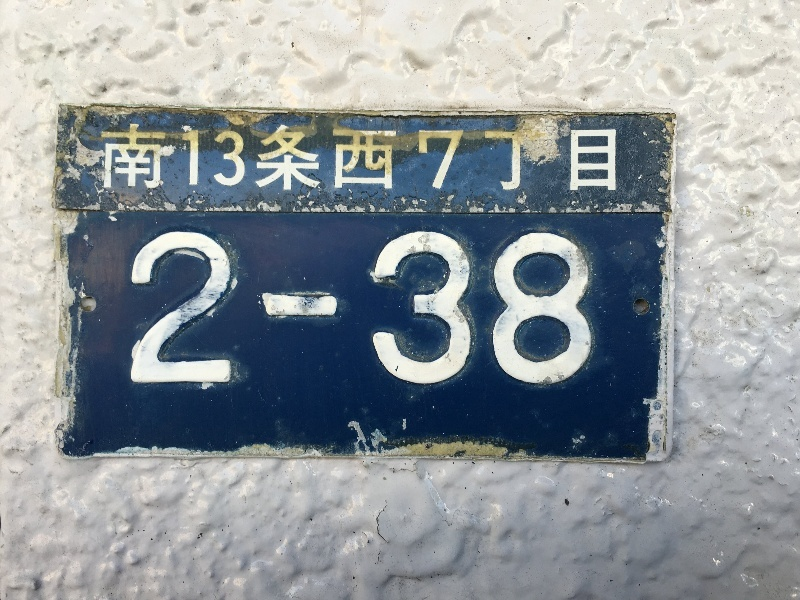text: (577, 226, 593, 386), (145, 226, 160, 386), (161, 226, 176, 386), (177, 226, 192, 386), (193, 226, 208, 386), (209, 226, 224, 386), (225, 226, 240, 386), (241, 226, 256, 386), (257, 226, 272, 386), (273, 226, 288, 386), (289, 226, 304, 386), (305, 226, 320, 386), (321, 226, 336, 386), (337, 226, 352, 386), (353, 226, 368, 386), (369, 226, 384, 386), (385, 226, 400, 386), (401, 226, 416, 386), (417, 226, 432, 386), (433, 226, 448, 386), (449, 226, 464, 386), (465, 226, 480, 386), (481, 226, 496, 386), (497, 226, 512, 386), (513, 226, 528, 386), (529, 226, 544, 386), (545, 226, 560, 386), (561, 226, 576, 386), (132, 226, 144, 386), (113, 122, 128, 193), (129, 122, 144, 193), (145, 122, 160, 193), (161, 122, 176, 193), (177, 122, 192, 193), (193, 122, 208, 193), (209, 122, 224, 193), (225, 122, 240, 193), (241, 122, 256, 193), (257, 122, 272, 193), (273, 122, 288, 193), (289, 122, 304, 193), (305, 122, 320, 193), (321, 122, 336, 193), (337, 122, 352, 193), (353, 122, 368, 193), (369, 122, 384, 193), (385, 122, 400, 193), (401, 122, 416, 193), (417, 122, 432, 193), (433, 122, 448, 193), (449, 122, 464, 193), (465, 122, 480, 193), (481, 122, 496, 193), (497, 122, 512, 193), (513, 122, 528, 193), (529, 122, 544, 193), (545, 122, 560, 193), (561, 122, 576, 193), (577, 122, 592, 193), (593, 122, 608, 193), (102, 122, 112, 193), (609, 122, 617, 193)
